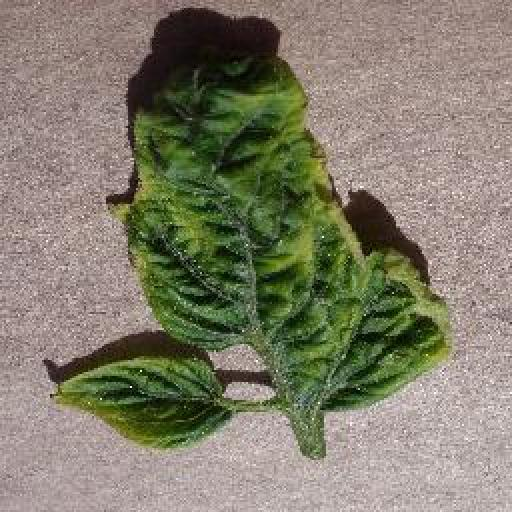disease_tomato: (111, 52, 448, 411), (52, 355, 227, 448)
